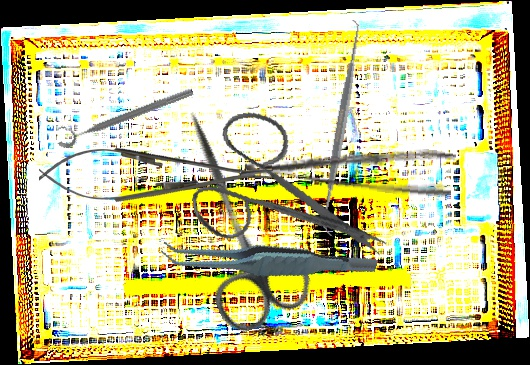Dressing Forceps: (243, 127, 457, 201)
Fixation Ring: (52, 76, 196, 151)
Iris Scissors: (143, 95, 320, 339), (177, 90, 391, 290)
Needle Holder: (39, 147, 273, 203)
Spatula Surgical: (310, 19, 373, 237)
Tissue Forceps: (158, 201, 379, 318)
